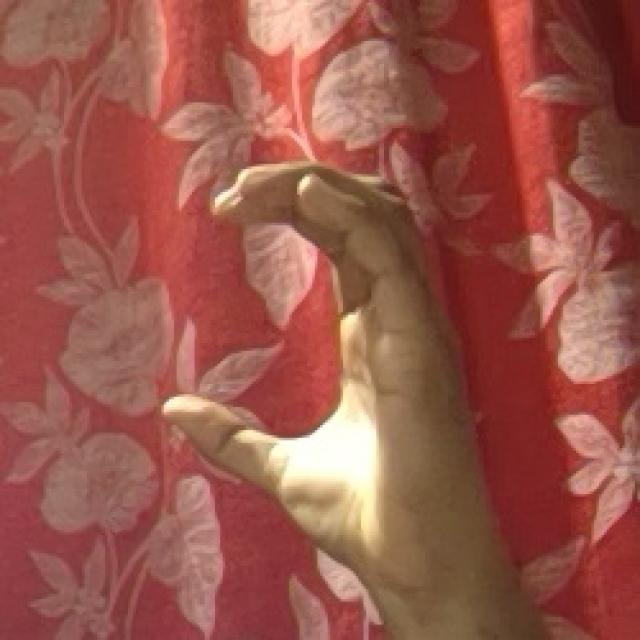Alphabet-C: (164, 164, 550, 640)
